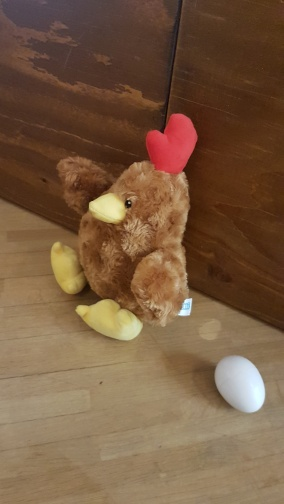chicken: (48, 112, 200, 344)
egg: (212, 353, 267, 415)
